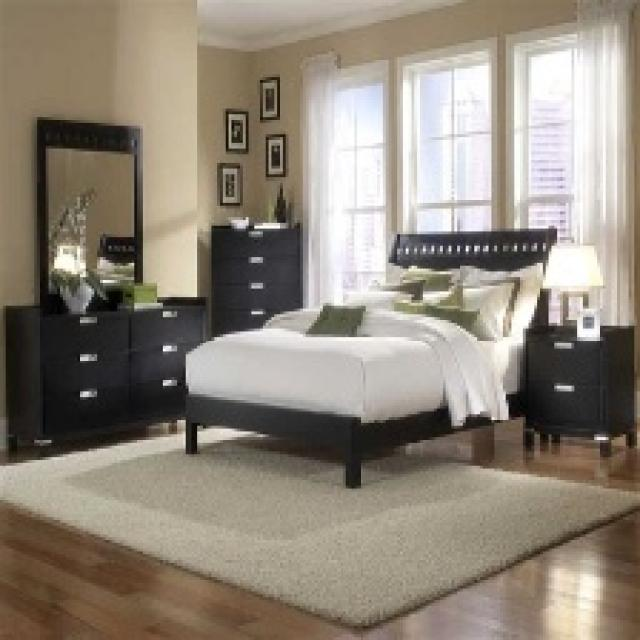Bed: (183, 226, 557, 488)
